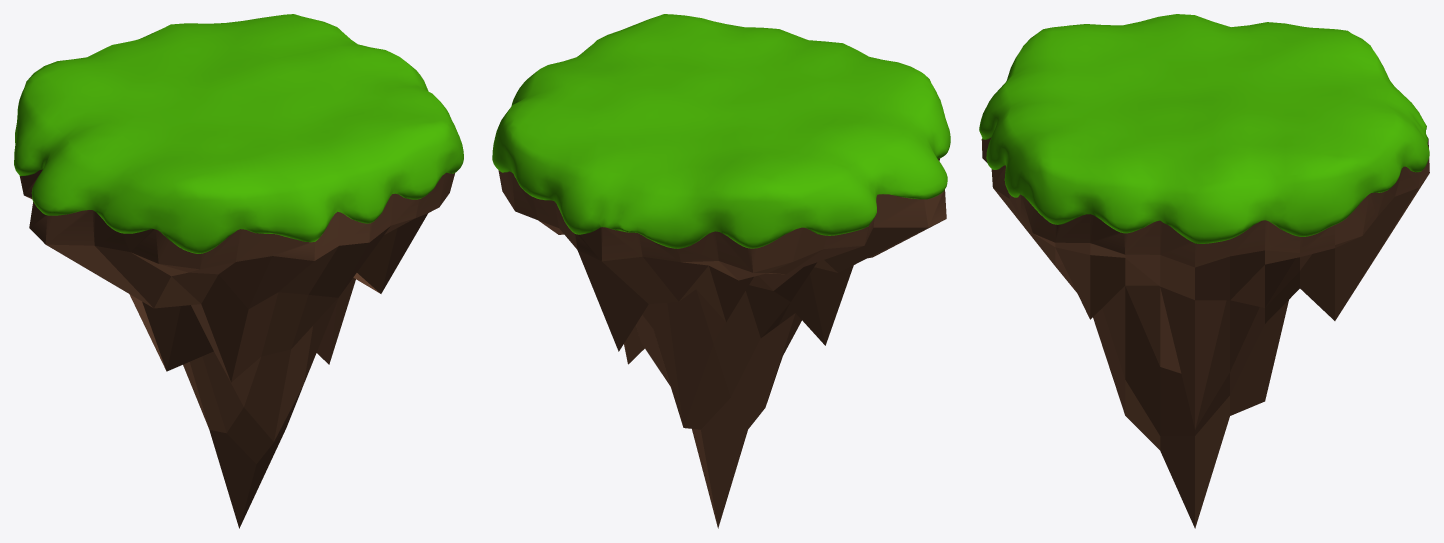
Rendered from Island.fbx.
3 views of the same model, side by side, from view 1: azimuth 30°, elevation 25°; view 2: azimuth 150°, elevation 25°; view 3: azimuth 270°, elevation 25° (orthographic).
Parts seen in each view (by area): view 1: Island1; view 2: Island1; view 3: Island1.
Boxes of the visible parts, bbox=[...] form: Island1: bbox=[14, 14, 463, 528]; Island1: bbox=[492, 14, 950, 528]; Island1: bbox=[979, 14, 1429, 528].
Bounding box in the file's own units: 0.0672 × 0.0695 × 0.0644.
